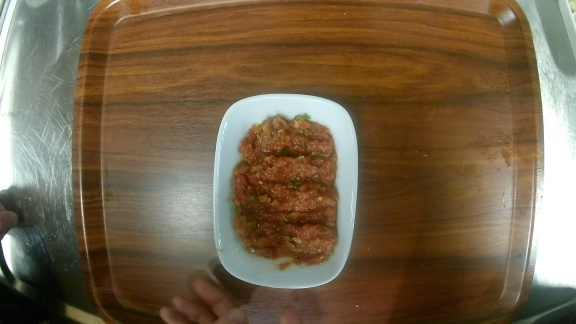acilimeze: (213, 92, 360, 289)
